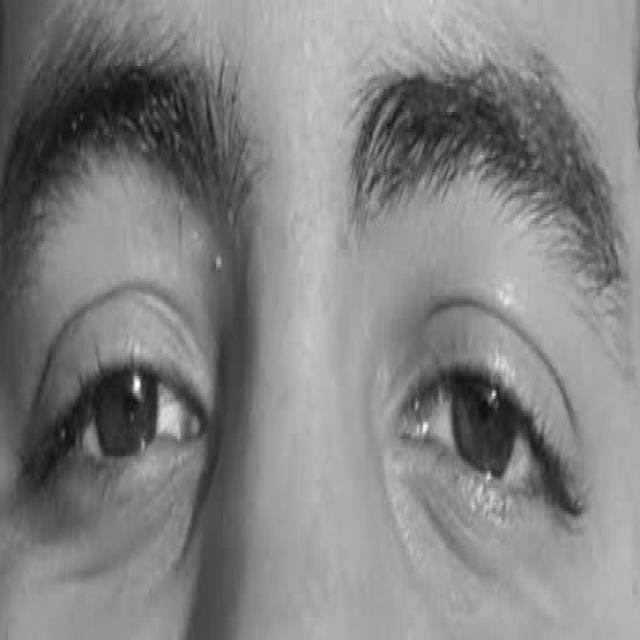real: (15, 128, 621, 582)
